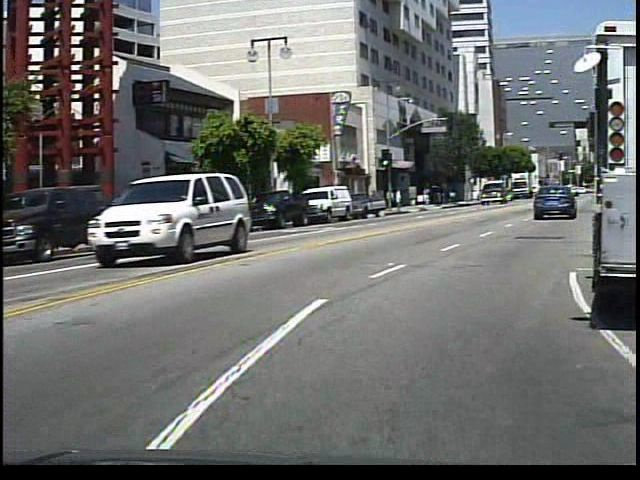person: (395, 186, 410, 215)
